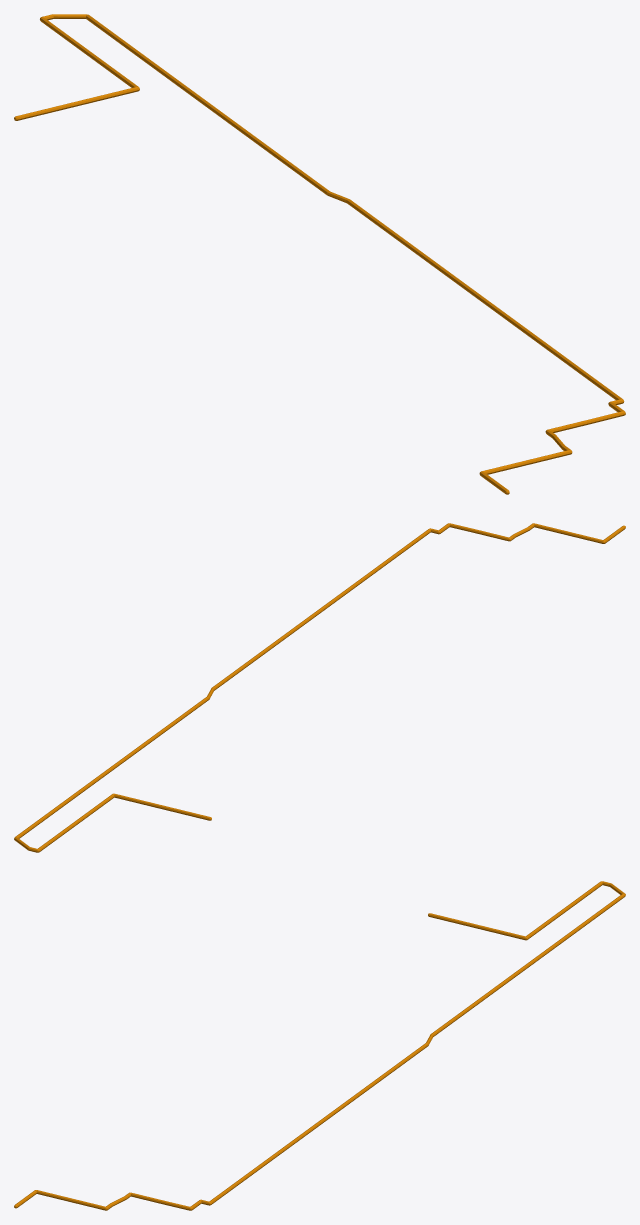
3 views of the same model, one above another, from view 1: azimuth 30°, elevation 25°; view 2: azimuth 150°, elevation 25°; view 3: azimuth 330°, elevation 25° (orthographic). The views are drawn at different scales.
Size of the model in its own units: 833 by 20 by 4747.
